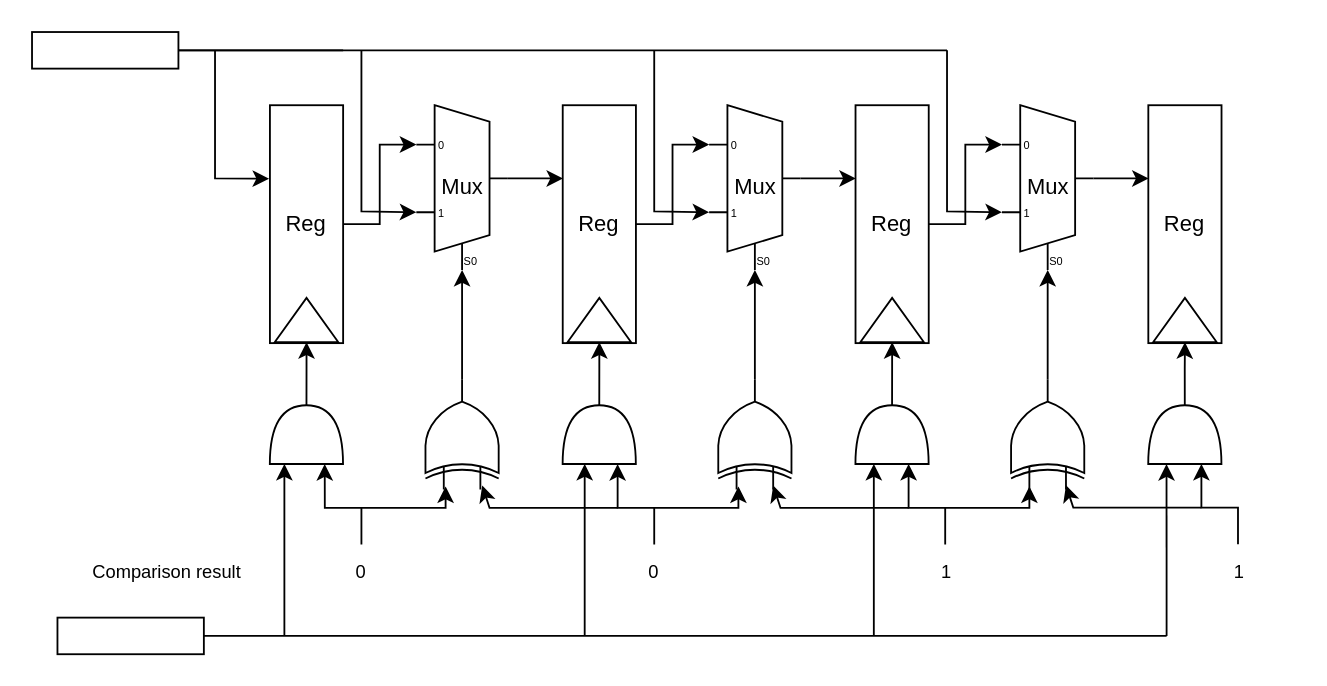
This 1327x686 diagram has some shape labels left out. The shapes that lost their labels are listed below. From the top down, each one's box as (x1, y1, x2, y2) in pixels, then its label:
(30, 30, 178, 69): New element
(56, 616, 204, 654): Clk
